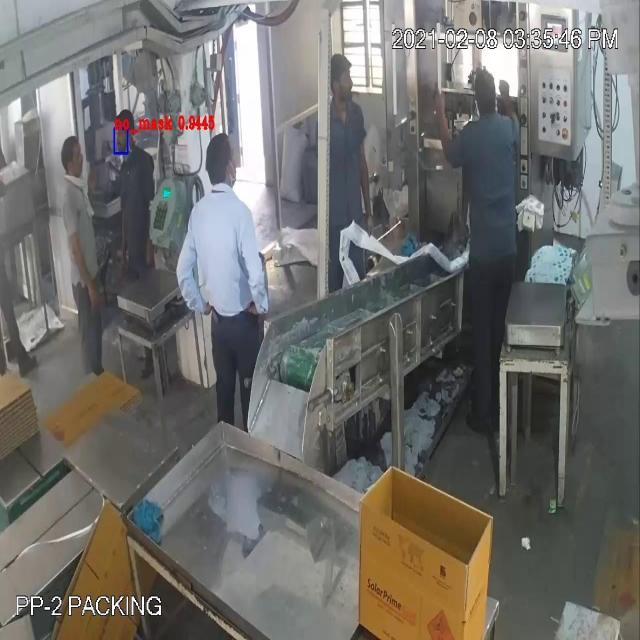No_Gloves: (23, 88, 510, 276)
